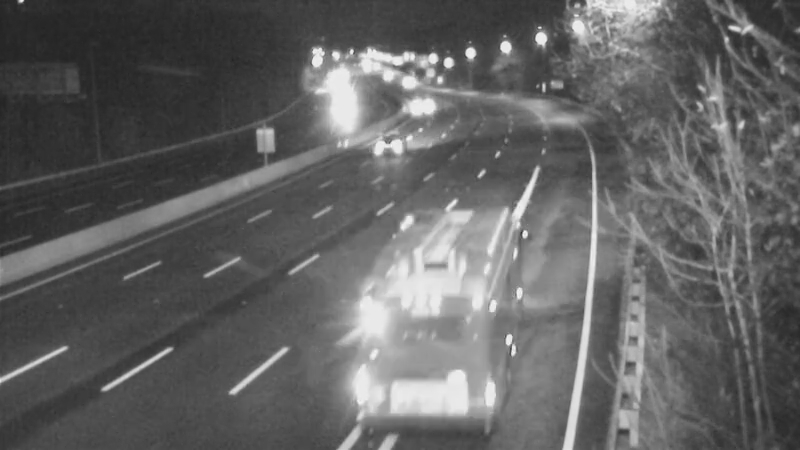vehicle: (385, 249, 465, 329), (381, 58, 431, 108), (399, 81, 449, 131), (365, 111, 415, 161), (318, 82, 368, 132)
